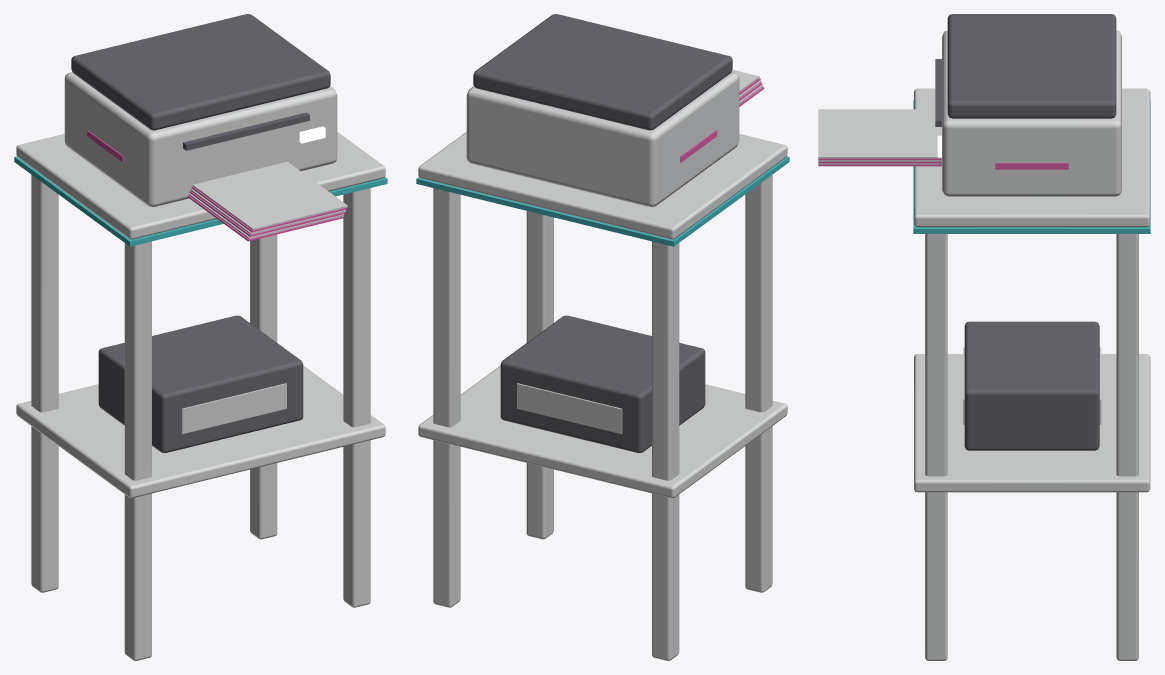
File: tattoo-and-piercing-studio-stencil-printer-shelf-7f9f3da5__34531.glb
The picture shows the model from 3 angles, left to right: view 1: azimuth 30°, elevation 25°; view 2: azimuth 150°, elevation 25°; view 3: azimuth 270°, elevation 25°; orthographic projection. The views are drawn at different scales.
Parts seen in each view (by area): view 1: stencil-printer-shelf; view 2: stencil-printer-shelf; view 3: stencil-printer-shelf.
Part boxes in pixels (x1,y1,x2,y2): stencil-printer-shelf: [14, 14, 387, 660]; stencil-printer-shelf: [416, 14, 789, 660]; stencil-printer-shelf: [818, 14, 1150, 660].
Size of the model in its own units: 0.542 by 1.07 by 0.591.
